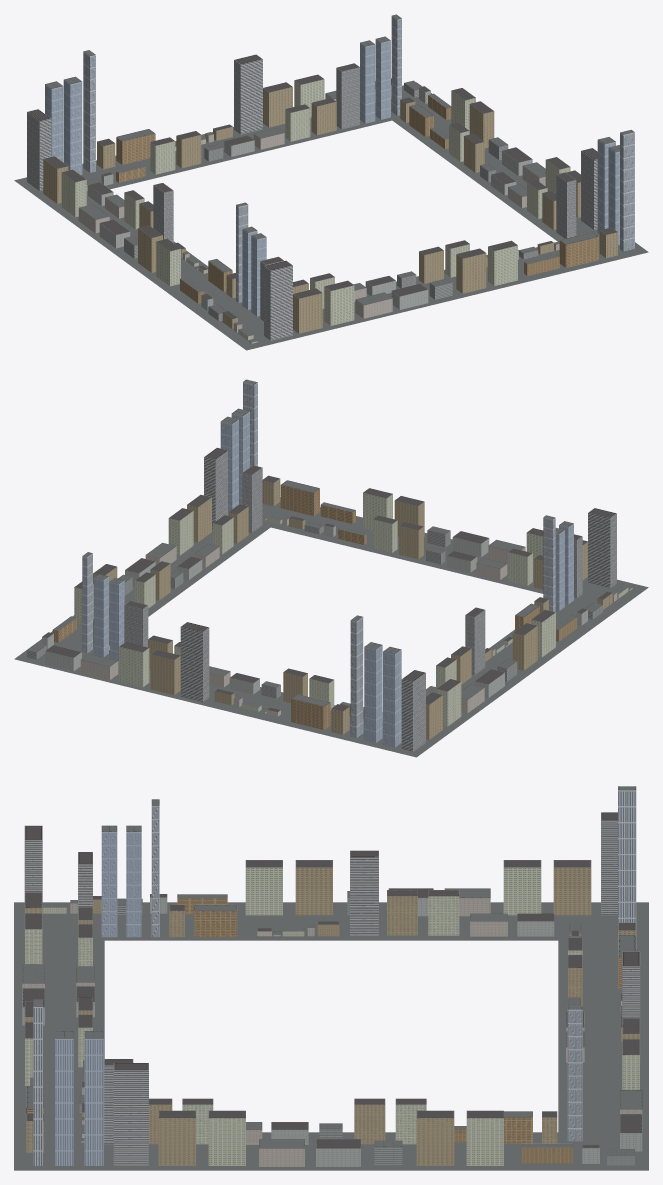
Rendered from Deco.FBX.
The picture shows the model from 3 angles, top to bottom: view 1: azimuth 30°, elevation 25°; view 2: azimuth 150°, elevation 25°; view 3: azimuth 270°, elevation 25°; orthographic projection. The views are drawn at different scales.
Parts seen in each view (by area): view 1: DecoBuildings2, DecoBuildings1, DecoPlan; view 2: DecoBuildings2, DecoBuildings1, DecoPlan; view 3: DecoBuildings2, DecoPlan, DecoBuildings1.
Boxes of the visible parts, bbox=[...] form: DecoBuildings2: bbox=[27, 50, 634, 343]; DecoBuildings1: bbox=[86, 14, 576, 321]; DecoPlan: bbox=[14, 82, 648, 350]; DecoBuildings2: bbox=[27, 379, 632, 751]; DecoBuildings1: bbox=[82, 465, 582, 721]; DecoPlan: bbox=[14, 497, 648, 757]; DecoBuildings2: bbox=[22, 786, 642, 1166]; DecoPlan: bbox=[14, 902, 648, 1170]; DecoBuildings1: bbox=[76, 799, 584, 1144].
Bounding box in the file's own units: 1750 × 484 × 1750.
